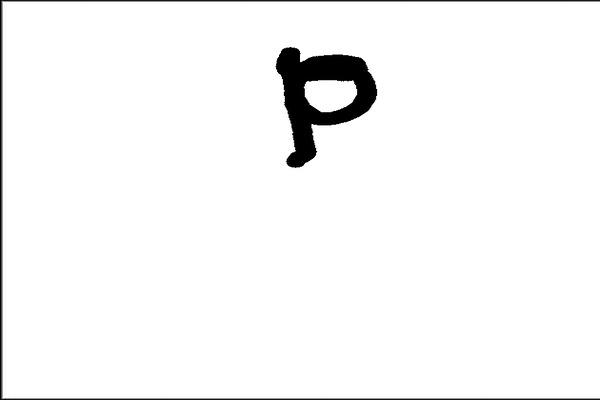P: (262, 40, 390, 177)
